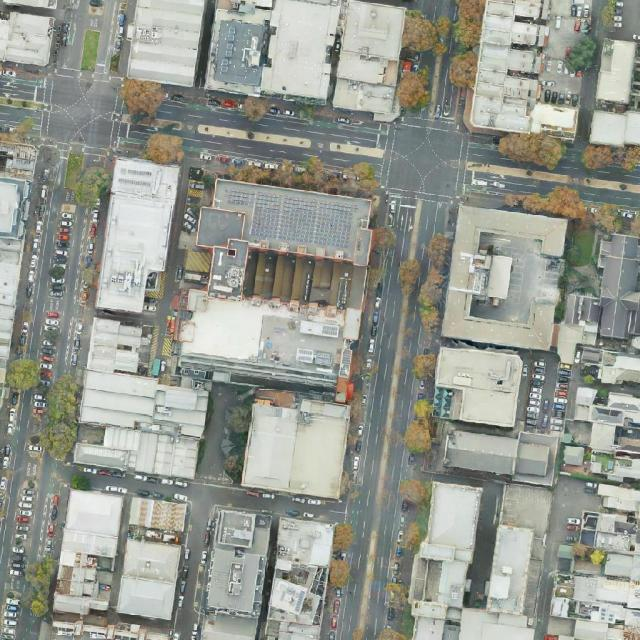building: (72, 317, 218, 482), (174, 288, 362, 396), (440, 204, 571, 353), (207, 178, 377, 267), (96, 156, 180, 317), (241, 392, 350, 500), (52, 487, 131, 621), (112, 496, 189, 622), (430, 344, 524, 427), (442, 421, 560, 486), (127, 0, 205, 88), (0, 178, 30, 364), (571, 387, 640, 456), (554, 292, 603, 367), (595, 38, 637, 105), (209, 237, 249, 301), (196, 206, 246, 253), (528, 102, 580, 144)
greenland: (226, 146, 381, 200), (501, 172, 628, 235), (38, 372, 85, 461), (413, 231, 453, 333), (496, 124, 568, 171), (395, 478, 430, 553), (18, 553, 57, 618), (68, 161, 116, 213), (117, 76, 166, 119), (559, 35, 605, 78), (395, 66, 431, 112), (404, 398, 433, 454), (144, 133, 186, 166), (402, 16, 439, 53), (565, 223, 595, 267), (6, 358, 41, 392), (237, 91, 271, 125), (449, 51, 478, 88), (398, 258, 424, 295), (63, 152, 84, 191), (332, 522, 355, 554), (226, 405, 251, 434), (383, 582, 409, 609), (412, 352, 436, 381), (221, 452, 243, 483), (329, 559, 351, 588), (372, 228, 396, 251), (599, 0, 616, 30), (432, 15, 453, 39), (376, 629, 409, 639)
metalled_road: (411, 464, 510, 610), (543, 475, 603, 578), (169, 496, 214, 616), (138, 243, 190, 328), (161, 169, 195, 296), (196, 383, 236, 484), (89, 469, 183, 502), (238, 488, 330, 521), (187, 483, 248, 511), (577, 65, 599, 140), (531, 572, 555, 632), (406, 0, 456, 21), (326, 510, 344, 521), (145, 289, 160, 300)
